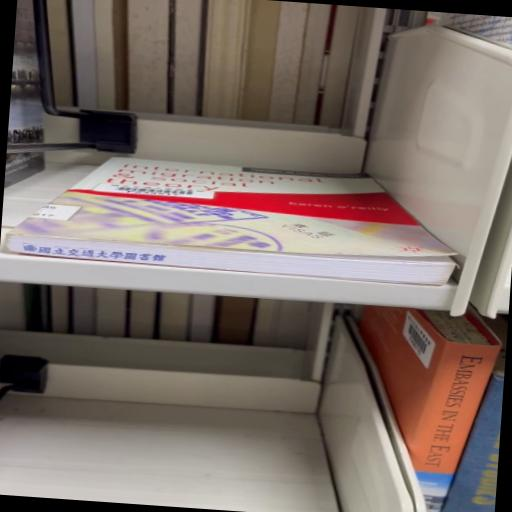flat: (6, 158, 458, 286)
